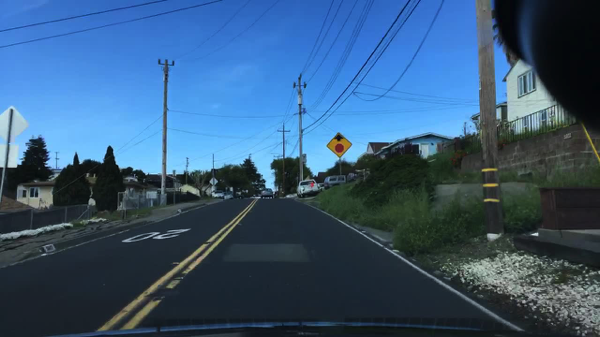car: (323, 175, 345, 188), (260, 187, 273, 198), (346, 172, 358, 182), (212, 190, 224, 198), (223, 192, 233, 200), (316, 183, 325, 191)
traffic sign: (325, 132, 352, 159), (209, 178, 219, 184)
truck: (296, 179, 320, 198)
